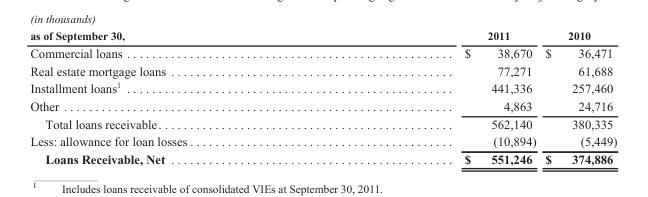table: (29, 29, 616, 165)
table column: (29, 29, 325, 165), (325, 29, 540, 165), (540, 29, 616, 165)
table column header: (29, 29, 616, 43)
table row: (29, 43, 616, 61), (29, 78, 616, 96), (29, 96, 616, 114), (29, 114, 616, 132), (29, 61, 616, 78), (29, 132, 616, 149), (29, 149, 616, 165), (29, 29, 616, 43)
